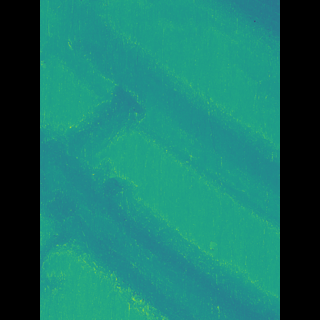Loch: (73, 0, 250, 235), (67, 92, 249, 319)
